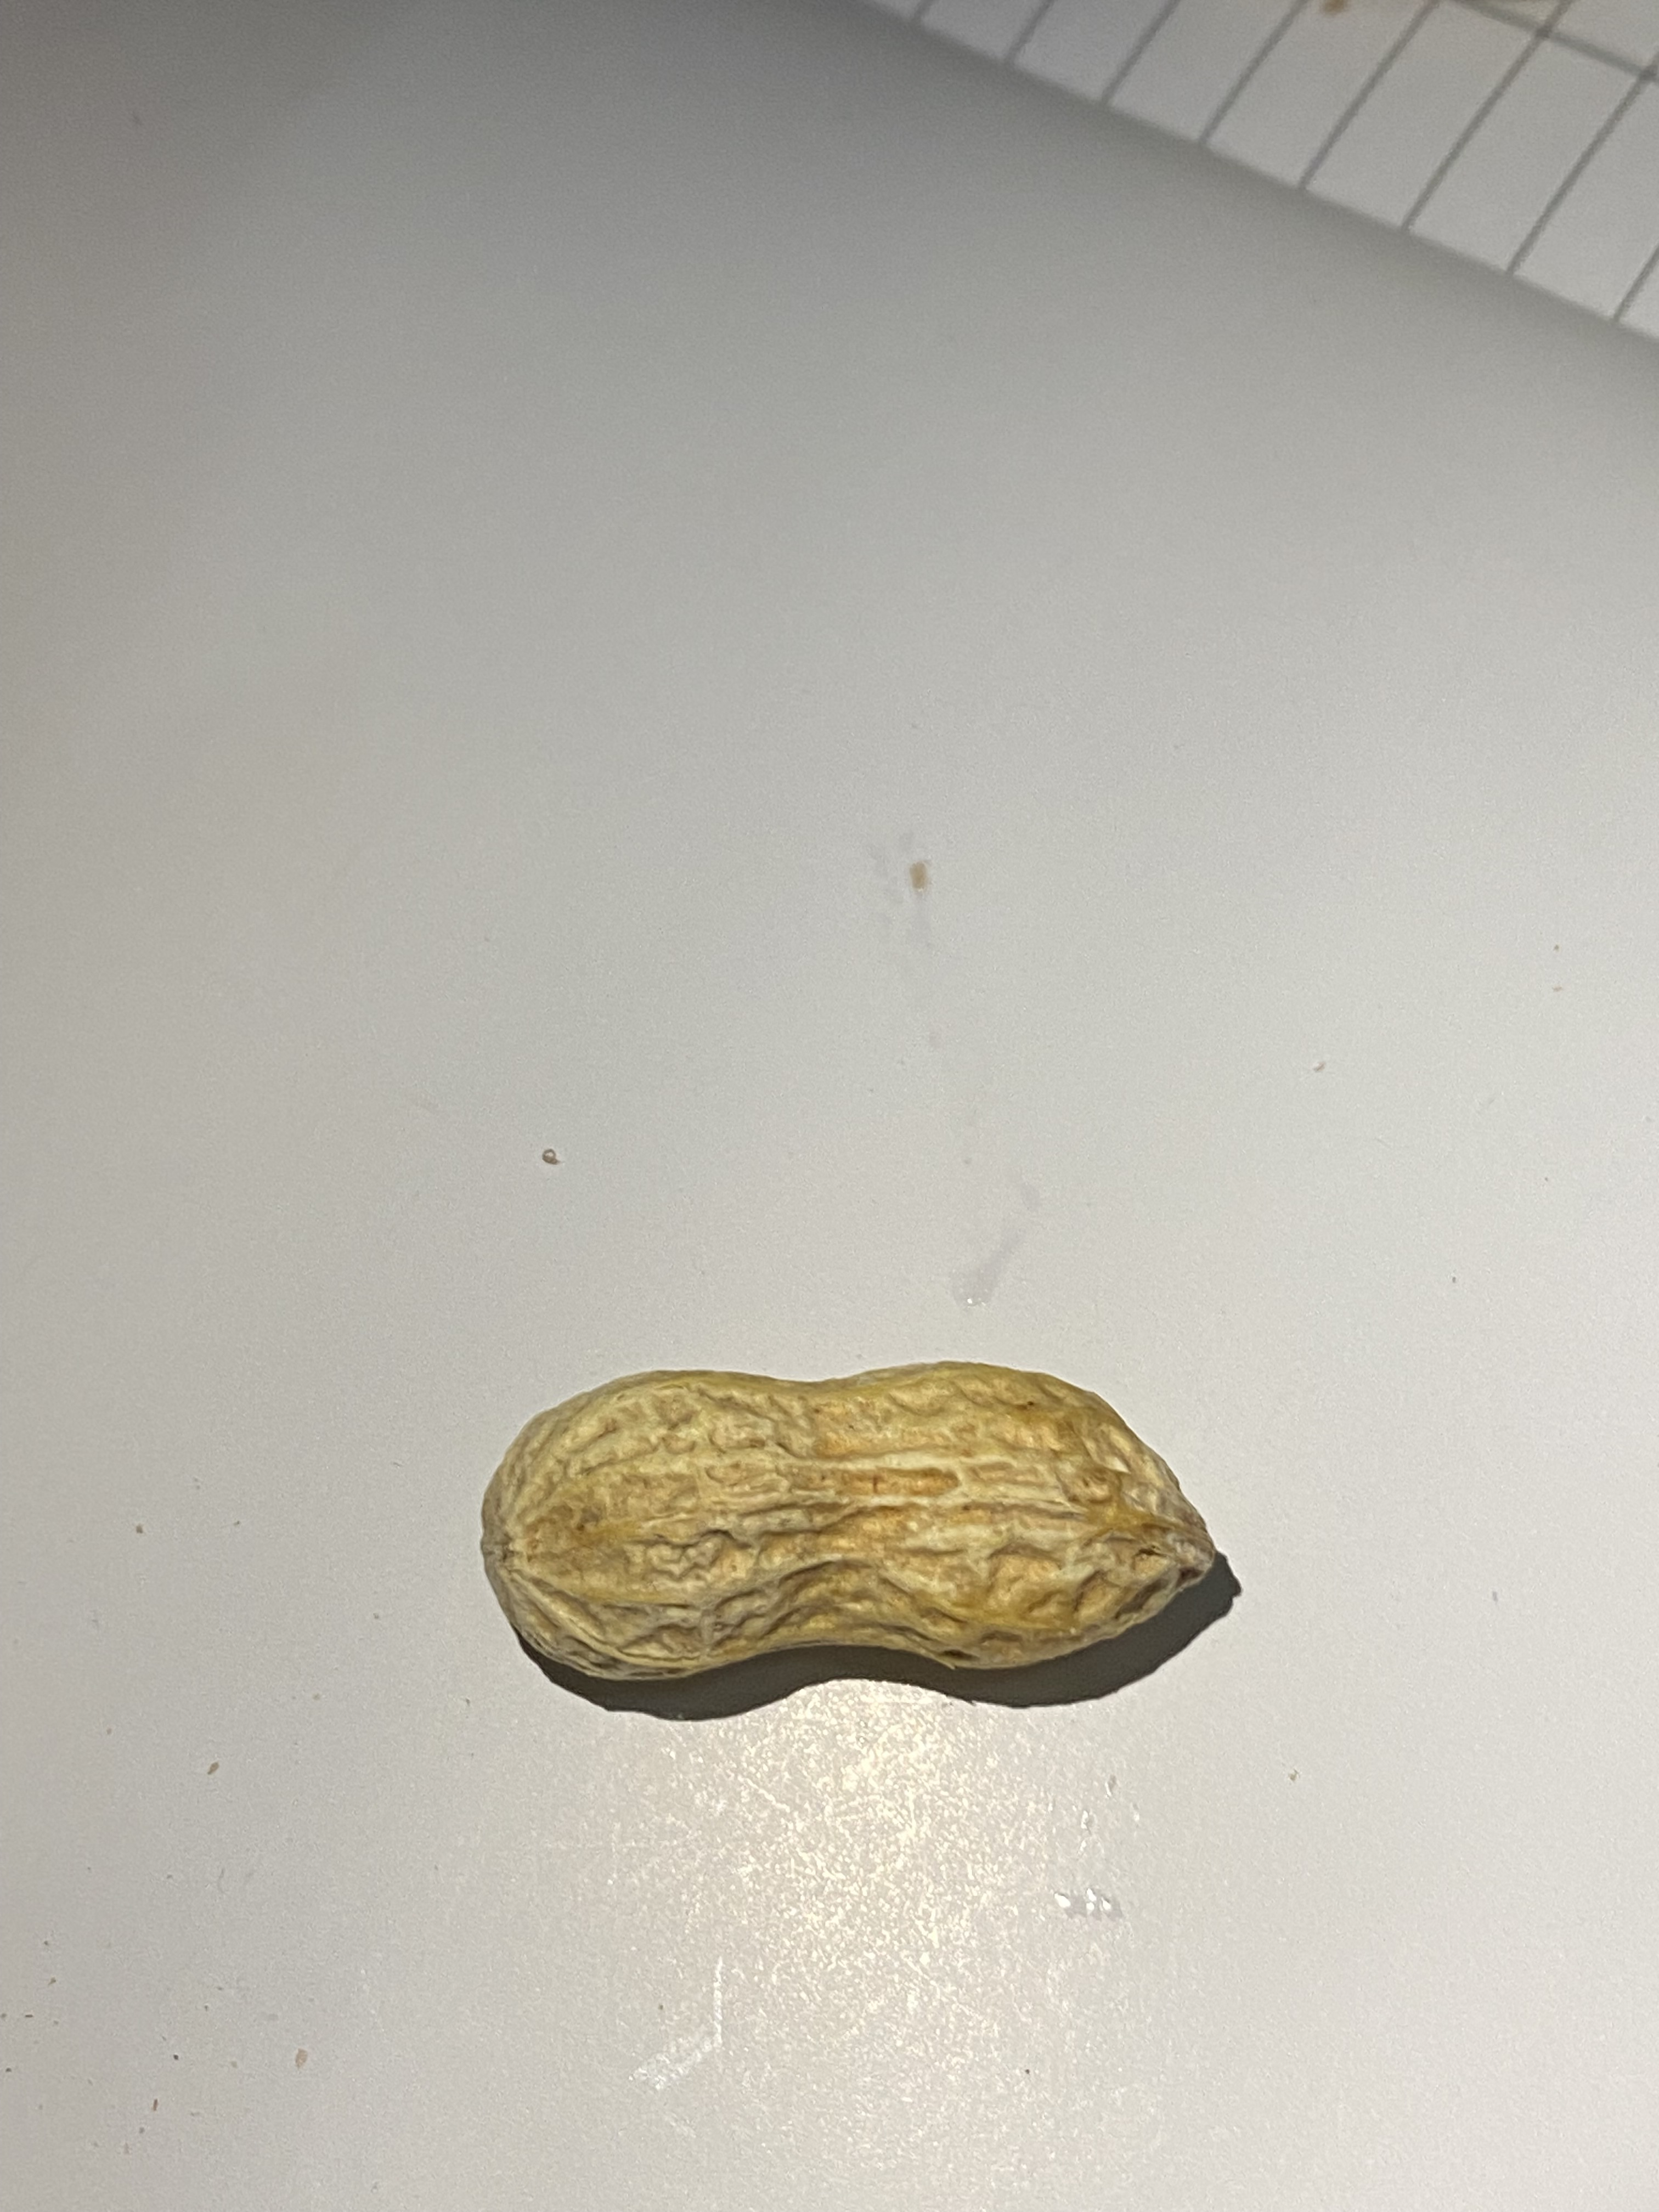kacang2: (467, 1357, 1283, 1688)
